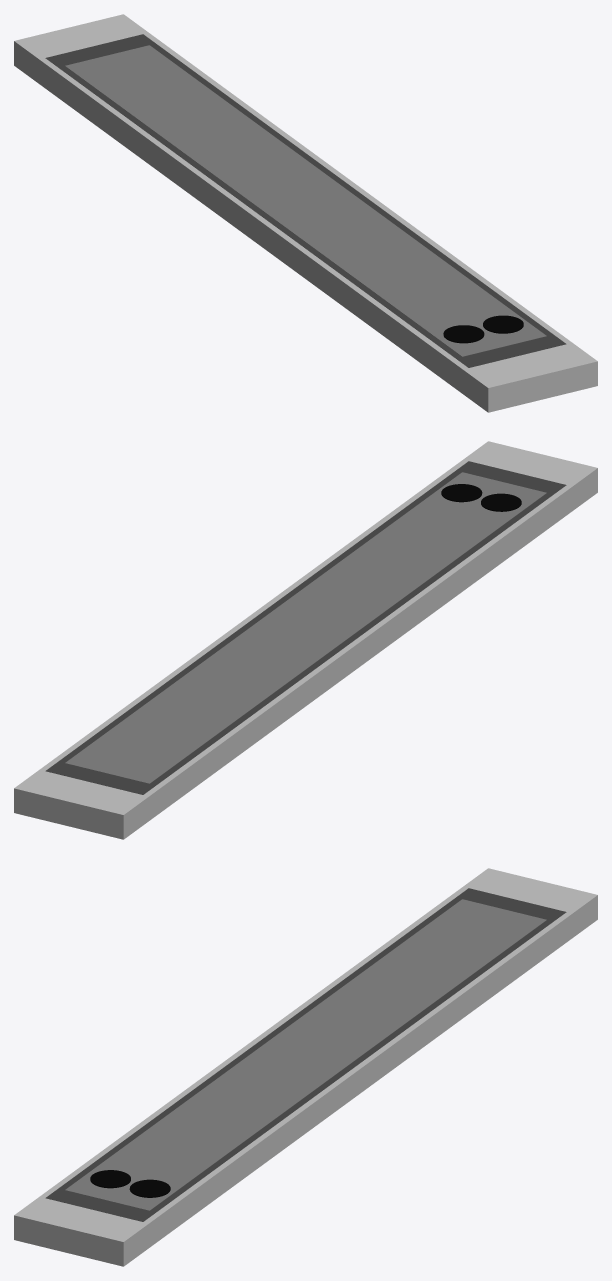
The model's file is Cooker Unit (Oven Hob Buttons Base).fbx.
The picture shows the model from 3 angles, top to bottom: view 1: azimuth 30°, elevation 25°; view 2: azimuth 150°, elevation 25°; view 3: azimuth 330°, elevation 25°; orthographic projection.
Visible parts, largest first — view 1: Door 1.017, Door 1.015, Door 1.016, Cylinder.007, Cylinder.008; view 2: Door 1.017, Door 1.015, Door 1.016, Cylinder.007, Cylinder.008; view 3: Door 1.017, Door 1.015, Door 1.016, Cylinder.007, Cylinder.008.
Boxes of the visible parts, left/top/right/bottom form: Door 1.017: left=65, top=45, right=546, bottom=356; Door 1.015: left=14, top=14, right=597, bottom=412; Door 1.016: left=45, top=34, right=566, bottom=367; Cylinder.007: left=443, top=325, right=484, bottom=343; Cylinder.008: left=483, top=315, right=523, bottom=333; Door 1.017: left=65, top=472, right=546, bottom=783; Door 1.015: left=14, top=441, right=597, bottom=839; Door 1.016: left=45, top=461, right=566, bottom=794; Cylinder.007: left=481, top=493, right=521, bottom=511; Cylinder.008: left=441, top=484, right=482, bottom=502; Door 1.017: left=65, top=899, right=546, bottom=1210; Door 1.015: left=14, top=868, right=597, bottom=1266; Door 1.016: left=45, top=888, right=566, bottom=1221; Cylinder.007: left=90, top=1170, right=130, bottom=1188; Cylinder.008: left=129, top=1179, right=170, bottom=1197.
Size of the model in its own units: 0.1043 by 0.0337 by 0.7809.
Materials: 5 (5 with a texture image).
